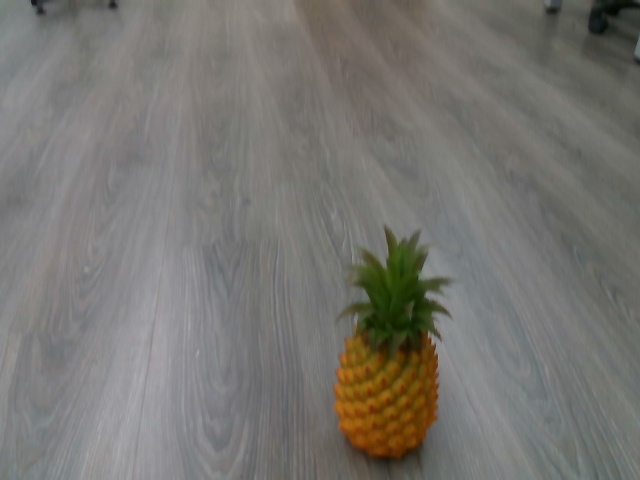pineapple: (328, 223, 455, 461)
